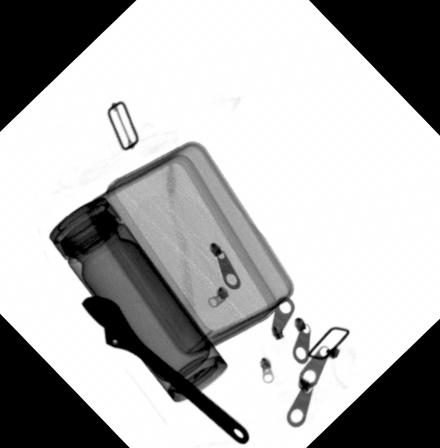Wrench: (78, 294, 251, 447)
